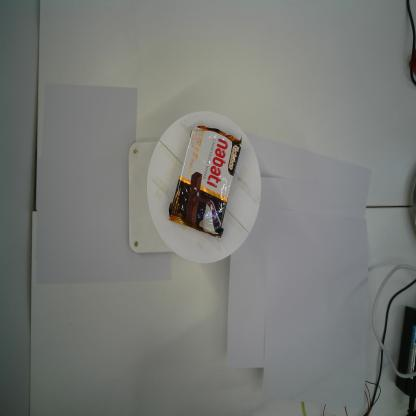Dessert: (167, 123, 242, 244)
